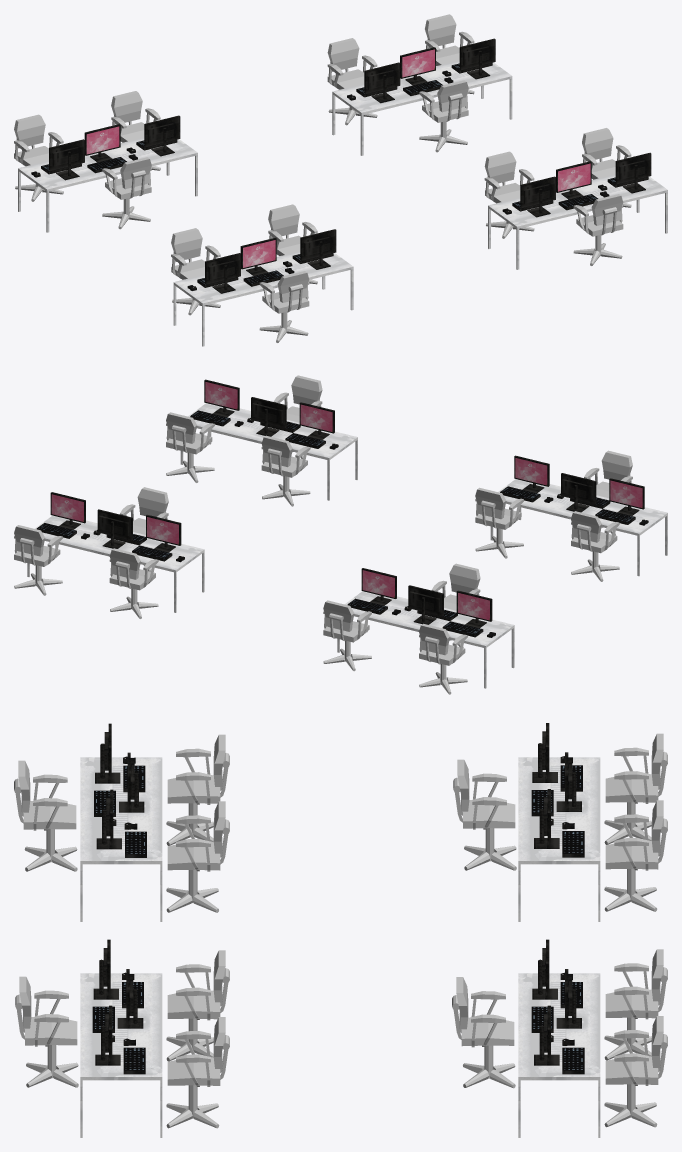
File: cluster_chair.obj
3 views of the same model, one above another, from view 1: azimuth 30°, elevation 25°; view 2: azimuth 150°, elevation 25°; view 3: azimuth 270°, elevation 25° (orthographic). The views are drawn at different scales.
Visible parts, largest first — view 1: computer.001, computer.003, computer.004, computer.002, top.009, top.003, top.004, top.008, Cube.002, Cube.004, Cube.003, Cube.001 (+8 smaller); view 2: computer.004, computer.002, computer.001, computer.003, top.008, top.004, top.003, top.009, Cube.006, Cube.005, Cube.011, Cube.008 (+8 smaller); view 3: top.008, top.009, top.003, top.004, computer.003, computer.002, computer.001, computer.004, Cube.008, Cube.001, Cube.002, Cube.004 (+8 smaller).
Boxes of the visible parts, left/top/right/bottom form: computer.001: left=187, top=229, right=336, bottom=293; computer.003: left=347, top=38, right=495, bottom=103; computer.004: left=31, top=115, right=180, bottom=180; computer.002: left=502, top=152, right=651, bottom=217; top.009: left=332, top=60, right=512, bottom=155; top.003: left=173, top=251, right=353, bottom=346; top.004: left=18, top=137, right=197, bottom=232; top.008: left=488, top=174, right=667, bottom=269; Cube.002: left=573, top=194, right=623, bottom=265; Cube.004: left=259, top=271, right=309, bottom=342; Cube.003: left=102, top=157, right=151, bottom=229; Cube.001: left=419, top=80, right=468, bottom=152; computer.004: left=347, top=568, right=495, bottom=637; computer.002: left=190, top=379, right=338, bottom=449; computer.001: left=500, top=455, right=648, bottom=525; computer.003: left=36, top=492, right=184, bottom=562; top.008: left=180, top=403, right=357, bottom=500; top.004: left=337, top=591, right=514, bottom=688; top.003: left=490, top=479, right=667, bottom=576; top.009: left=27, top=515, right=204, bottom=612; Cube.006: left=261, top=435, right=310, bottom=506; Cube.005: left=166, top=412, right=214, bottom=482; Cube.011: left=109, top=548, right=158, bottom=618; Cube.008: left=475, top=487, right=523, bottom=558; top.008: left=80, top=973, right=162, bottom=1137; top.009: left=518, top=973, right=600, bottom=1137; top.003: left=80, top=757, right=162, bottom=921; top.004: left=518, top=757, right=600, bottom=921; computer.003: left=531, top=939, right=584, bottom=1074; computer.002: left=92, top=939, right=145, bottom=1074; computer.001: left=94, top=723, right=146, bottom=857; computer.004: left=531, top=723, right=584, bottom=857; Cube.008: left=166, top=801, right=229, bottom=912; Cube.001: left=452, top=977, right=515, bottom=1088; Cube.002: left=15, top=976, right=78, bottom=1087; Cube.004: left=14, top=760, right=77, bottom=871.
Size of the model in its own units: 10.36 by 1.57 by 8.96.
